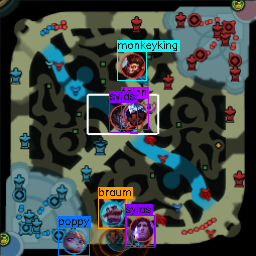braum: (98, 200, 124, 225)
monkeyking: (118, 52, 145, 77)
poppy: (62, 230, 85, 253)
sylas: (109, 104, 134, 129)
talon: (123, 101, 147, 124)
taric: (129, 217, 153, 240)
